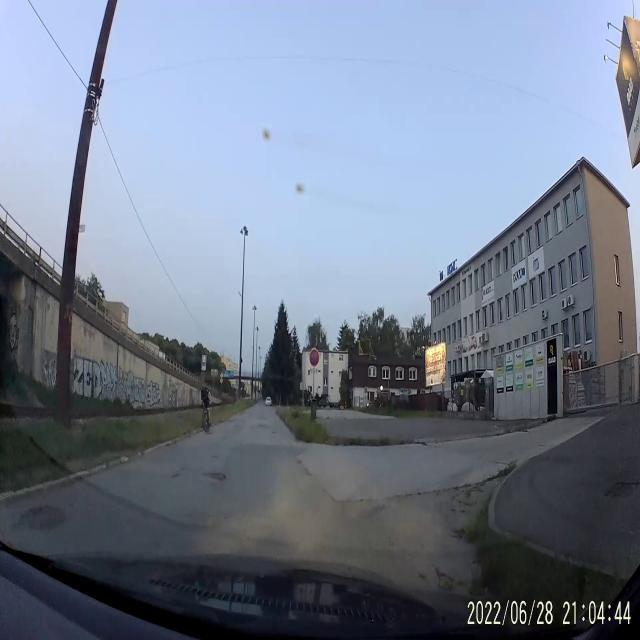Pothole: (22, 498, 66, 530), (201, 464, 230, 486)
